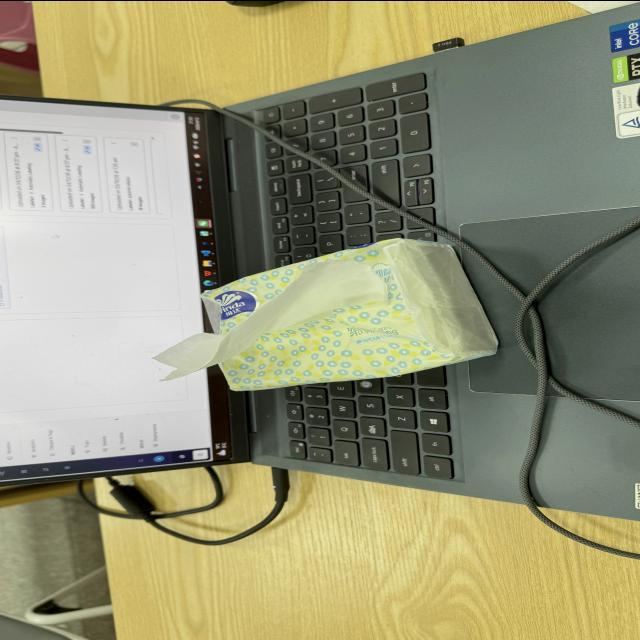tissue: (155, 239, 497, 389), (154, 259, 386, 379)
